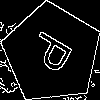P: (27, 28, 82, 80)
